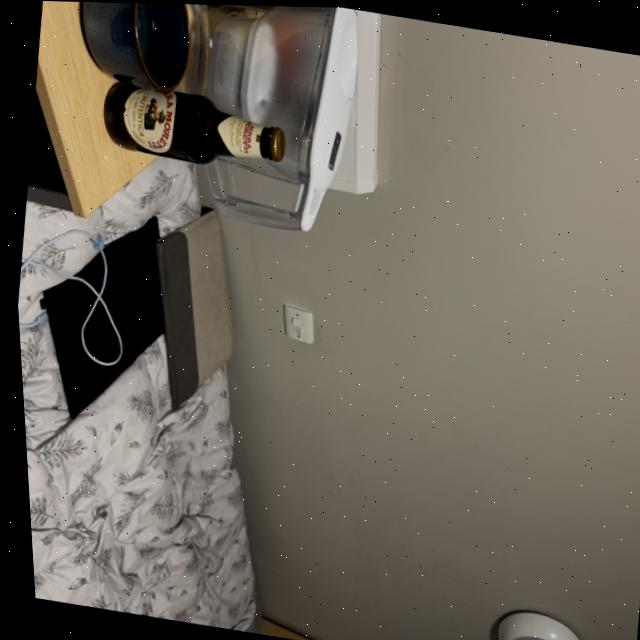beer: (92, 74, 292, 178)
